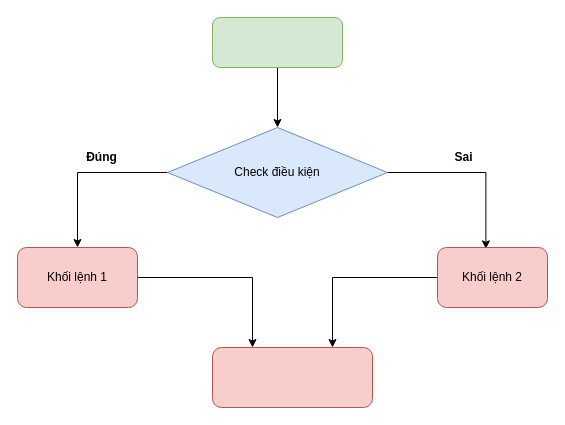
Image size: 565x425. Some labels were removed from this diagram. The box of each missing label's shape, as (x1, y1, x2, y2) in pixels:
Khối lệnh N: (212, 346, 372, 408)
Khởi tạo điều kiện: (212, 16, 342, 68)
